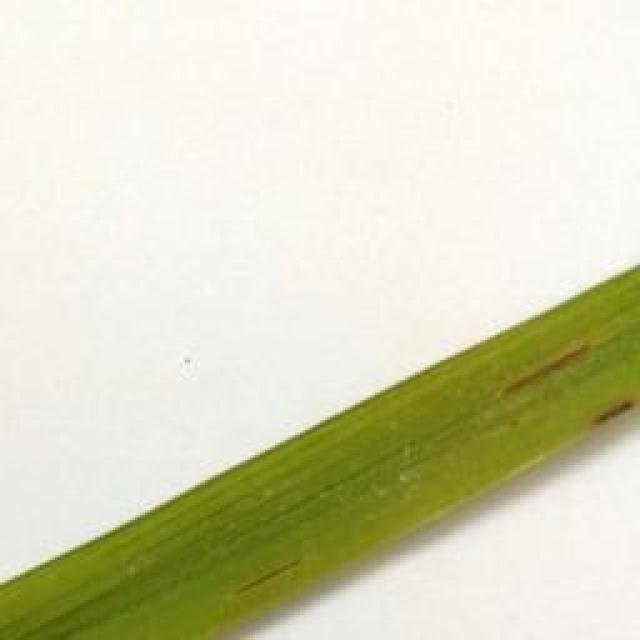Brown_Spot: (504, 334, 593, 406), (229, 557, 311, 600), (590, 393, 640, 435)
